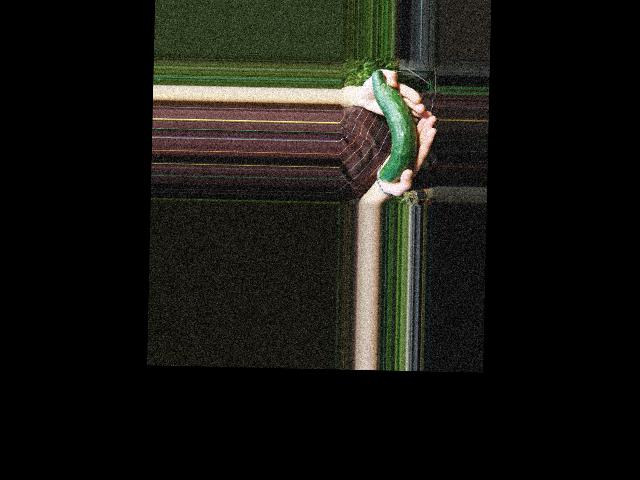cucumber: (369, 70, 419, 184)
